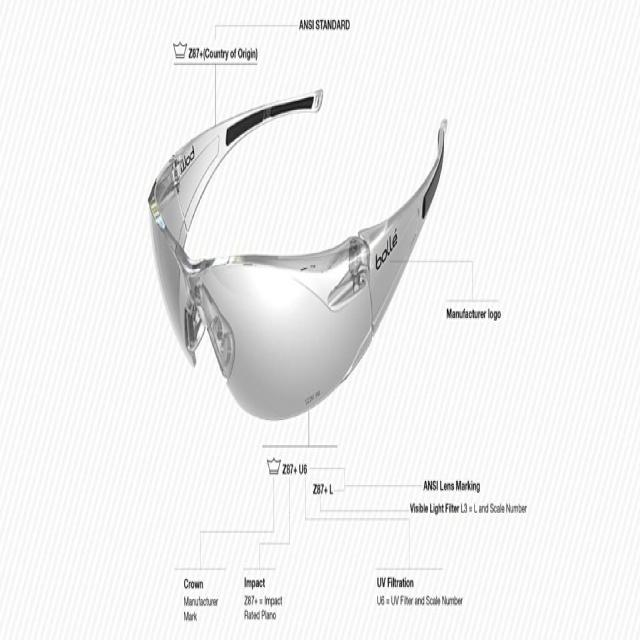goggles: (136, 93, 448, 368)
